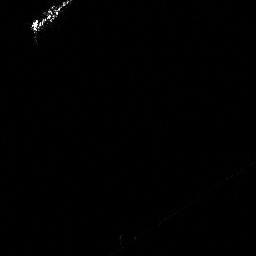ship: (29, 1, 74, 38)
